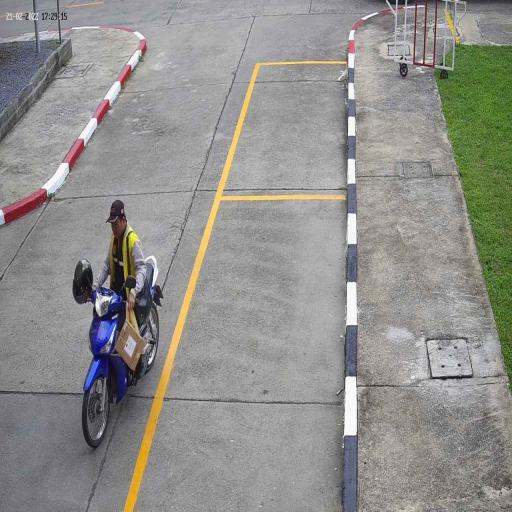motorcycle: (78, 288, 162, 450)
